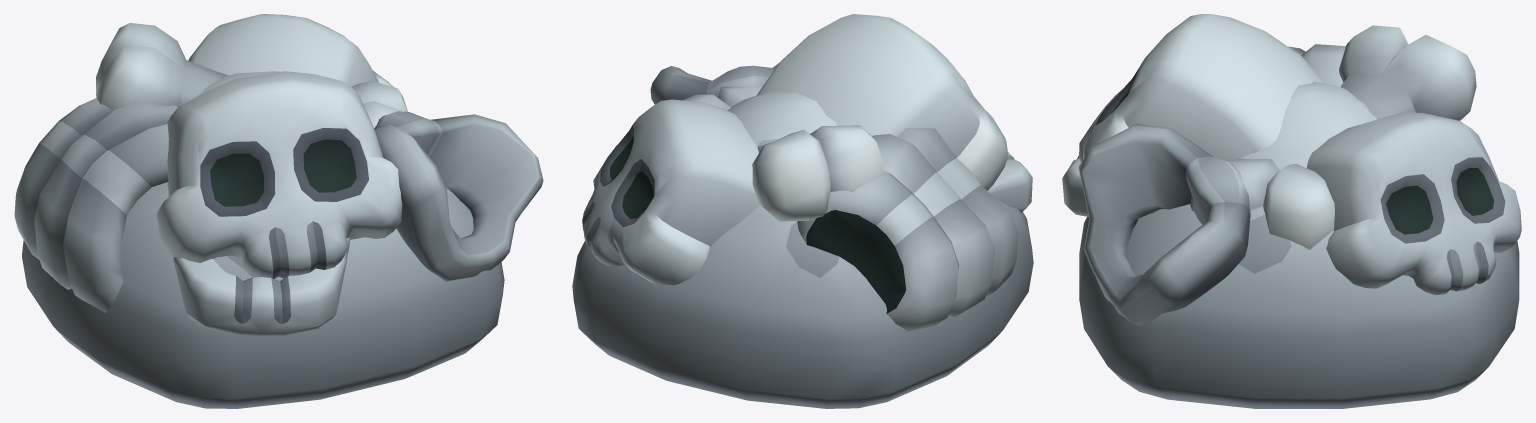
File: skull_pile_small_LOD_group.fbx
3 renders of one model, left to right at view 1: azimuth 30°, elevation 25°; view 2: azimuth 150°, elevation 25°; view 3: azimuth 270°, elevation 25°, orthographic. The views are drawn at different scales.
Parts seen in each view (by area): view 1: skull_pile_small_LOD0; view 2: skull_pile_small_LOD0; view 3: skull_pile_small_LOD0.
Boxes of the visible parts, box(x1,y1,x2,y2) form: skull_pile_small_LOD0: box(14, 14, 543, 408); skull_pile_small_LOD0: box(572, 14, 1033, 408); skull_pile_small_LOD0: box(1062, 14, 1521, 408).
Size of what is drawn, in the model's own units: 143 by 91.53 by 135.
Materials: 1 (1 with a texture image).
